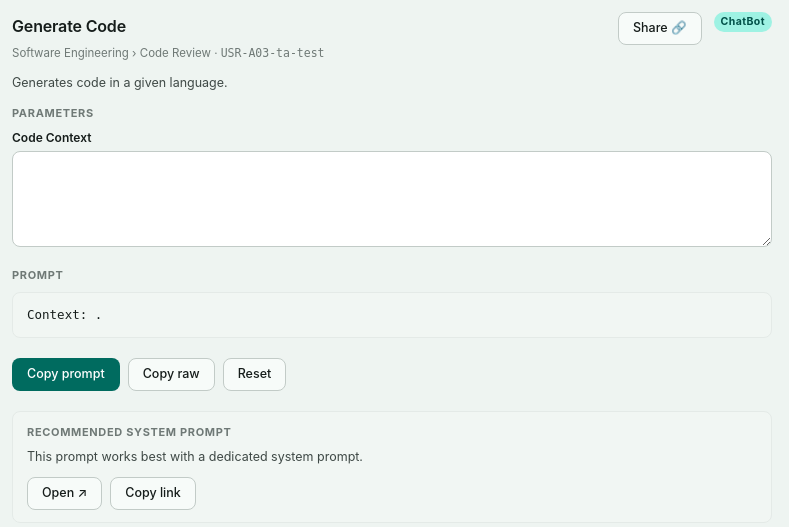
it: PromptDetailPanel — param control: textarea (T12) › typing in textarea updates the preview
Type "my code" into the text box labelled "Code Context" at [392, 199], box top-left (12, 151), bottom-right (772, 247)
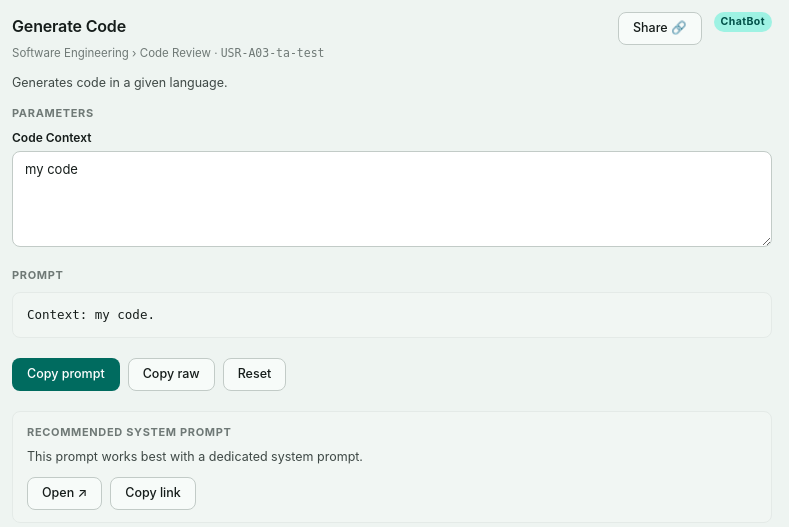
Now the element labelled "Prompt" shows "Context: my code.", box top-left (27, 307), bottom-right (155, 322)
